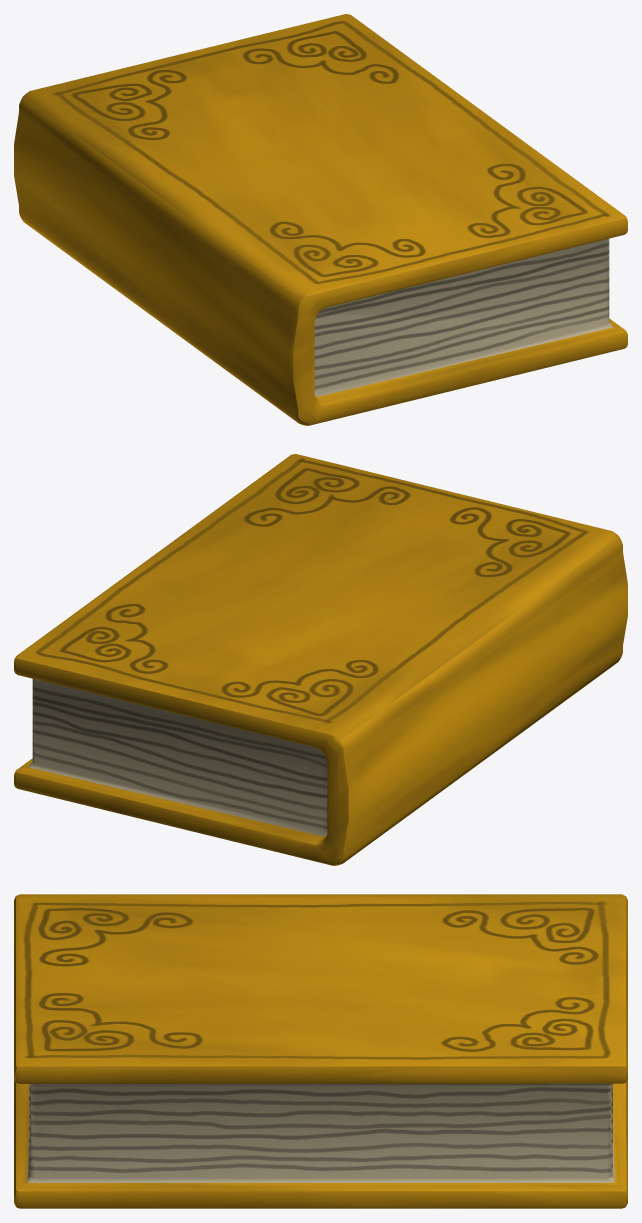
File: yellow_book.fbx
3 views of the same model, one above another, from view 1: azimuth 30°, elevation 25°; view 2: azimuth 150°, elevation 25°; view 3: azimuth 270°, elevation 25° (orthographic). The views are drawn at different scales.
Parts seen in each view (by area): view 1: Cube; view 2: Cube; view 3: Cube.
Part boxes in pixels (box(x1,y1,x2,y2)): Cube: box(14, 14, 627, 425); Cube: box(14, 454, 627, 865); Cube: box(14, 894, 627, 1208).
Size of the model in its own units: 2083 by 786 by 3003.
1 material, 1 textured.
